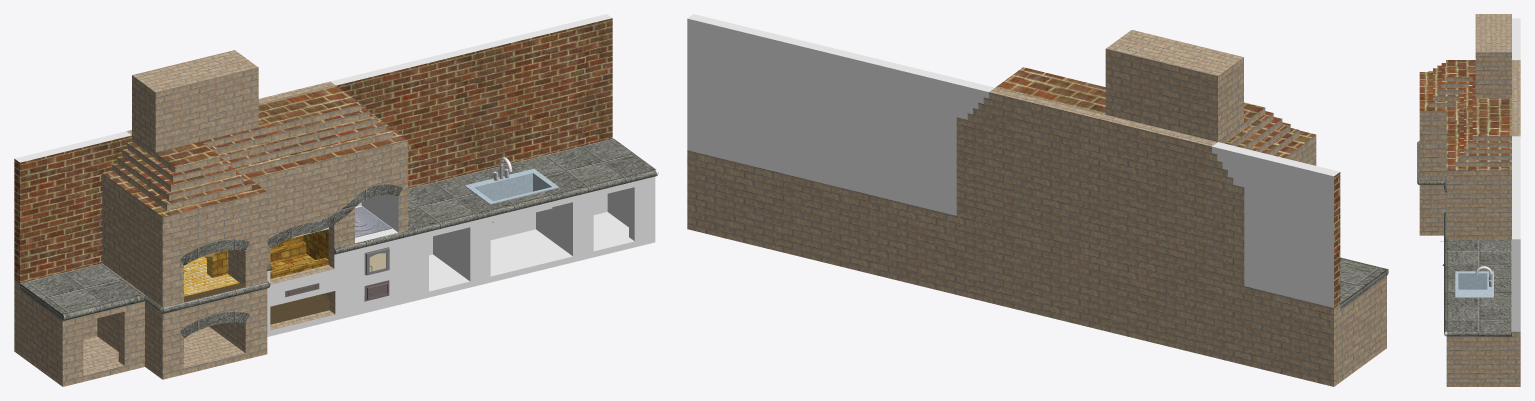
Rendered from outside_owen_2.glb.
3 views of the same model, side by side, from view 1: azimuth 30°, elevation 25°; view 2: azimuth 150°, elevation 25°; view 3: azimuth 270°, elevation 25° (orthographic). The views are drawn at different scales.
Visible parts, largest first — view 1: Model, Group5; view 2: Model; view 3: Model.
Part boxes in pixels (x1,y1,x2,y2): Model: (14,14,658,386); Group5: (364,247,389,275); Model: (687,14,1388,386); Model: (1417,14,1520,386).
Size of the model in its own units: 724 by 294 by 143.
Materials: 18 (12 with a texture image).
